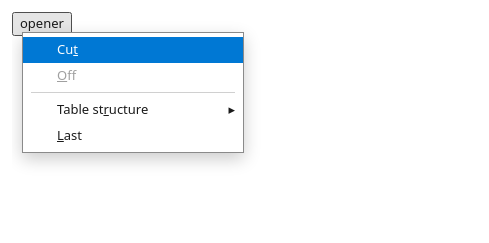
Scenario: PopupMenu submenus (feature 006) › opens a submenu on hover with the derived test ids, and runs its entry on click
Hover over the menu item with test id "pm-structure": coordinates (146, 109) [57, 100, 235, 118]
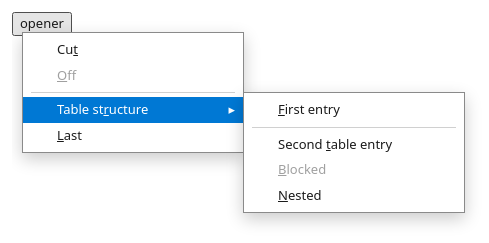
Expected: the menu item with test id "pm-structure" is expanded, [23, 97, 243, 123]
Hover over the menu item with test id "pm-structure-second": coordinates (335, 144) [278, 135, 392, 153]
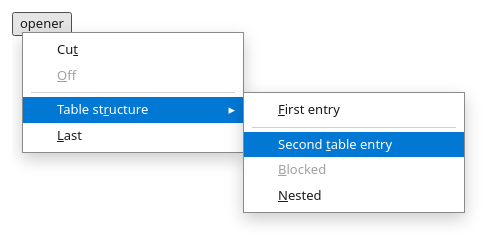
Note: Hovering another top-level entry closes the submenu.
Hover over the menu item with test id "pm-cut": coordinates (68, 49) [57, 40, 78, 58]
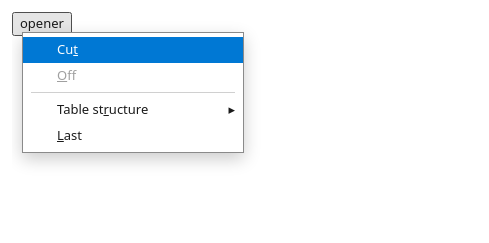
Expected: the menu with test id "pm-structure-popup" is gone
Click the menu item with test id "pm-structure": coordinates (146, 109) [57, 100, 235, 118]
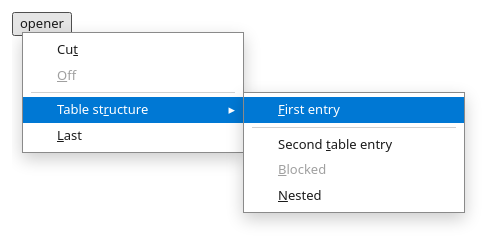
Click the menu item with test id "pm-structure-second": coordinates (335, 144) [278, 135, 392, 153]
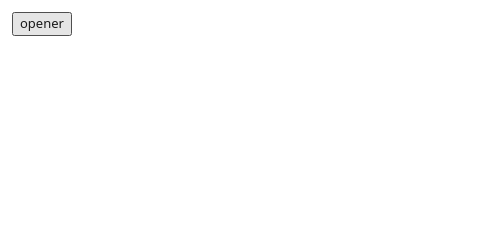
Expected: the menu with test id "pm" is gone
